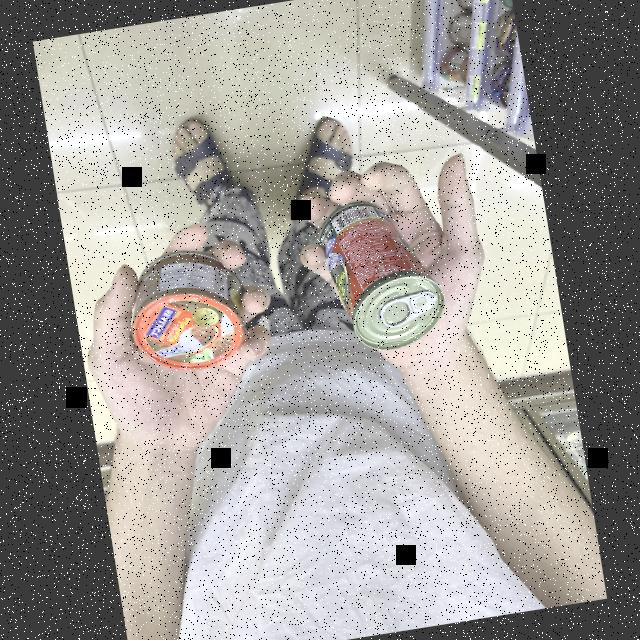can: (283, 182, 466, 378), (116, 246, 274, 387)
